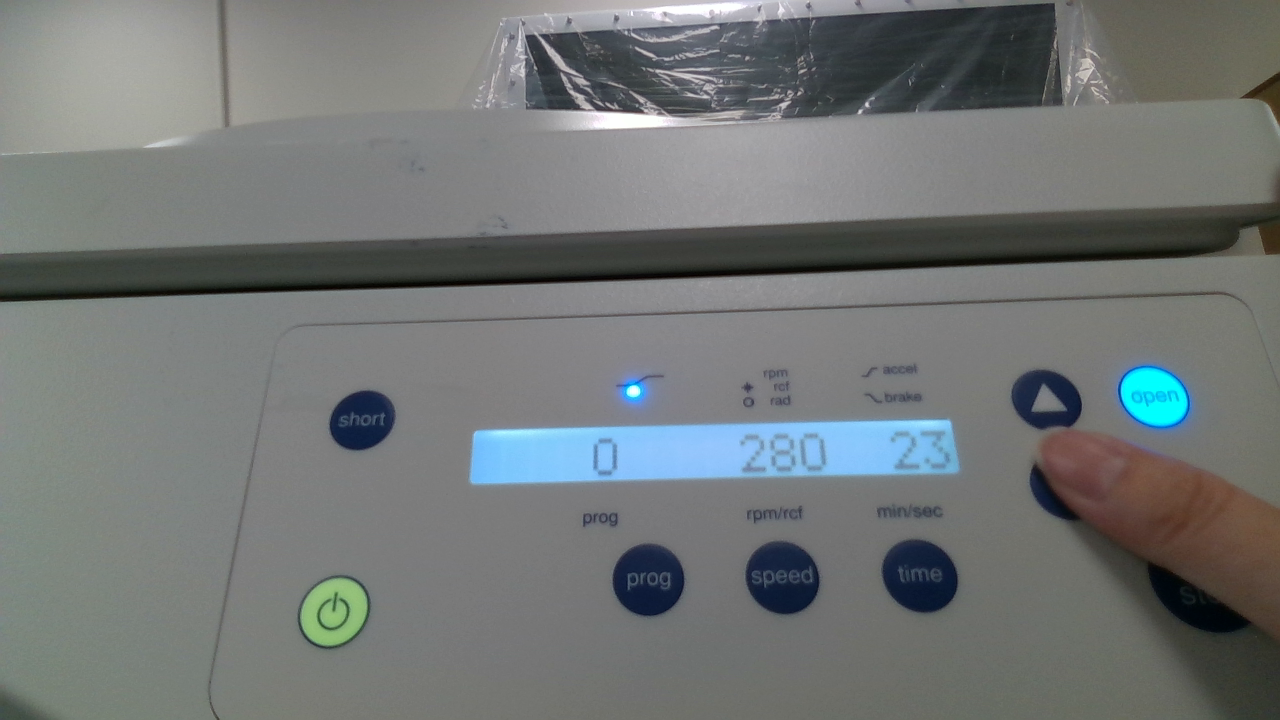0: (798, 430, 827, 472), (590, 433, 618, 474)
2: (738, 430, 766, 472), (892, 426, 916, 470)
3: (919, 426, 952, 469)
power_on: (768, 428, 796, 472)
